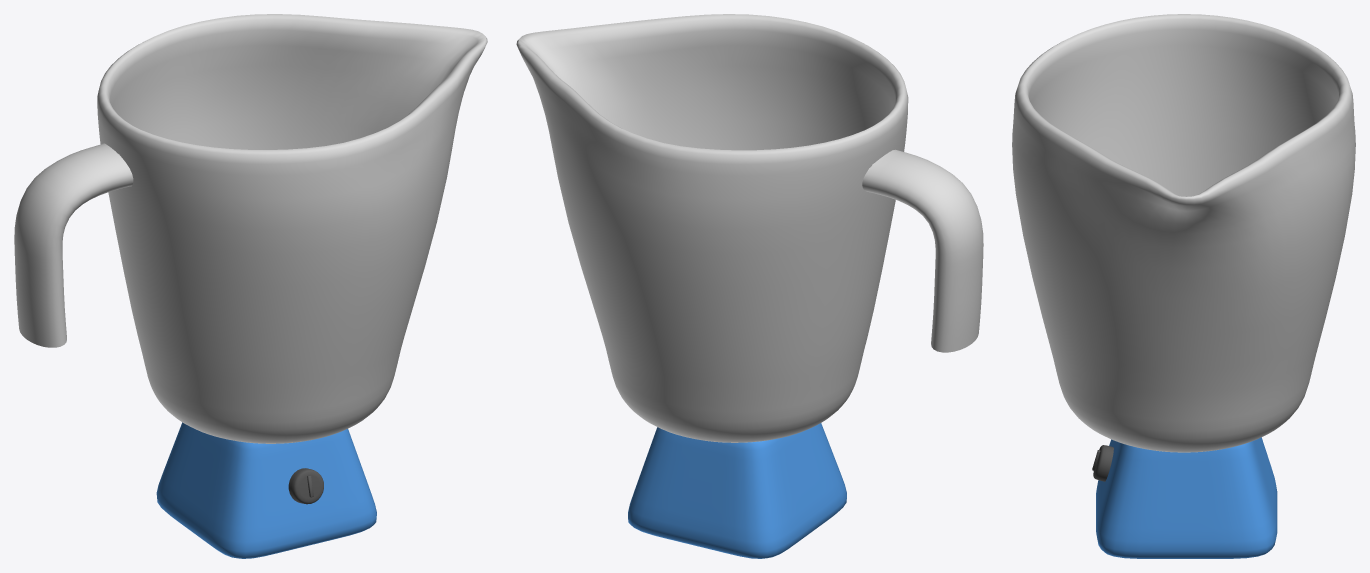
File: blender_2.fbx
3 renders of one model, left to right at view 1: azimuth 30°, elevation 25°; view 2: azimuth 150°, elevation 25°; view 3: azimuth 270°, elevation 25°, orthographic.
Visible parts, largest first — view 1: Plane.001, Cube.001; view 2: Plane.001, Cube.001; view 3: Plane.001, Cube.001.
Boxes of the visible parts, x1,y1,x2,y2 form: Plane.001: [14, 14, 487, 443]; Cube.001: [156, 422, 376, 558]; Plane.001: [516, 14, 983, 442]; Cube.001: [628, 423, 846, 558]; Plane.001: [1012, 14, 1355, 452]; Cube.001: [1092, 437, 1277, 558].
Bounding box in the file's own units: 1690 × 1538 × 1083.
